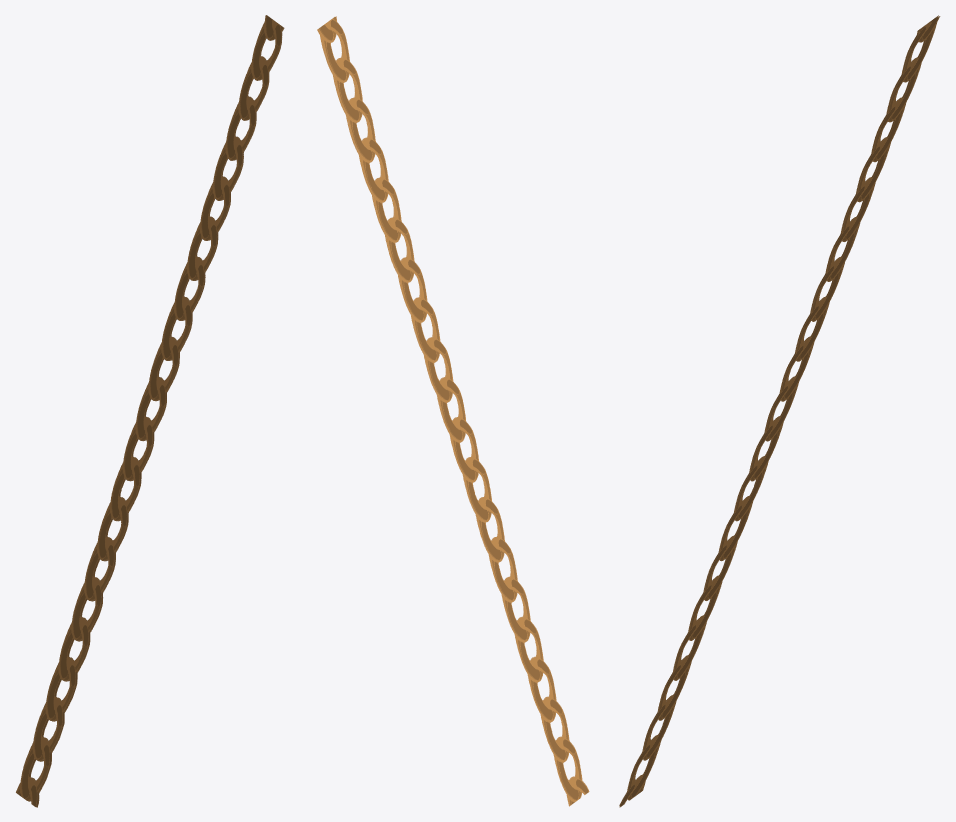
The model's file is ChainA.fbx.
3 renders of one model, left to right at view 1: azimuth 30°, elevation 25°; view 2: azimuth 150°, elevation 25°; view 3: azimuth 330°, elevation 25°, orthographic. The views are drawn at different scales.
Visible parts, largest first — view 1: pCube1; view 2: pCube1; view 3: pCube1.
Part boxes in pixels (<box>): pCube1: <box>16,15,284,807</box>; pCube1: <box>317,16,589,806</box>; pCube1: <box>619,15,940,807</box>.
Bounding box in the file's own units: 1.29 × 3.52 × 0.199.
1 material, 1 textured.
